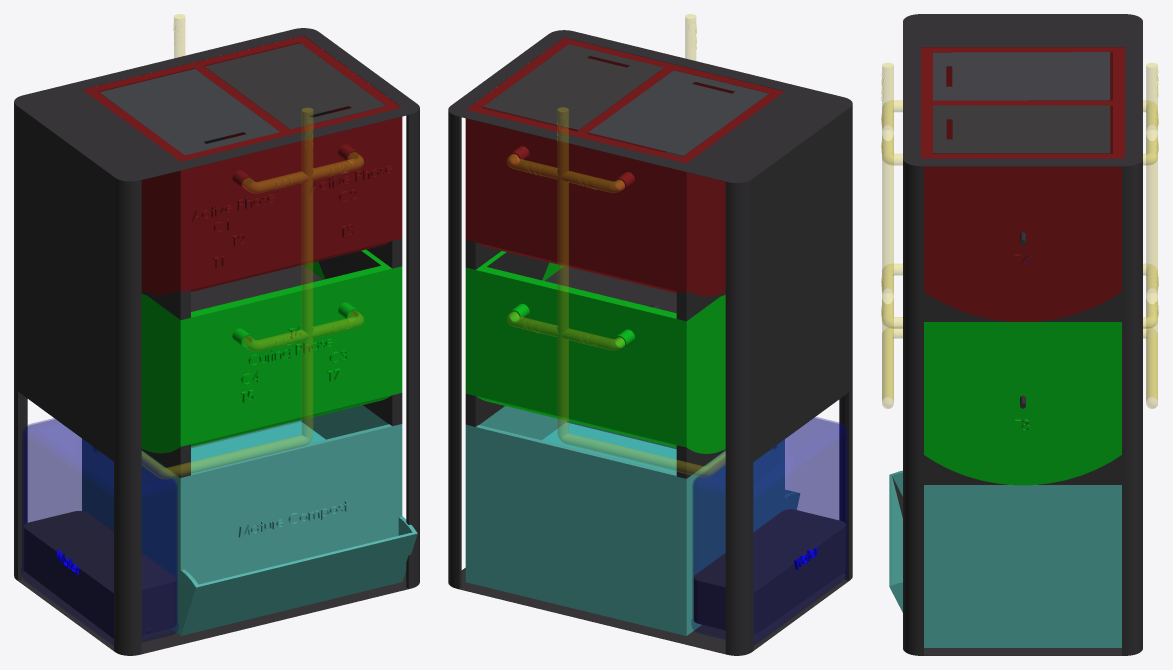
Rendered from anime_baked.glb.
3 renders of one model, left to right at view 1: azimuth 30°, elevation 25°; view 2: azimuth 150°, elevation 25°; view 3: azimuth 270°, elevation 25°, orthographic. The views are drawn at different scales.
Visible parts, largest first — view 1: Part3-1, Part5-1, Part1-1, Part2-1, bottle-1, wasteeee-1, pipe line-1, lid-1, lid-2, waste 3-1, waste 2-1, connector-1 (+3 smaller); view 2: Part3-1, Part5-1, Part1-1, Part2-1, bottle-1, wasteeee-1, pipe line-1, lid-1, lid-2, waste 3-1, waste 2-1, connector-1 (+3 smaller); view 3: Part3-1, Part1-1, Part5-1, Part2-1, pipe line-1, lid-1, lid-2, connector-3, connector-2.
Boxes of the visible parts, box(x1,y1,x2,y2) form: Part3-1: box(14, 28, 419, 655); Part5-1: box(82, 405, 417, 635); Part1-1: box(82, 35, 402, 295); Part2-1: box(141, 249, 402, 453); bottle-1: box(21, 418, 178, 645); wasteeee-1: box(23, 511, 176, 638); pipe line-1: box(142, 14, 363, 478); lid-1: box(205, 43, 385, 129); lid-2: box(99, 69, 279, 155); waste 3-1: box(191, 421, 325, 472); waste 2-1: box(191, 265, 322, 311); connector-1: box(141, 444, 190, 477); Part3-1: box(448, 30, 852, 655); Part5-1: box(465, 406, 799, 635); Part1-1: box(465, 37, 784, 296); Part2-1: box(465, 251, 725, 453); bottle-1: box(691, 417, 847, 644); wasteeee-1: box(693, 509, 845, 634); pipe line-1: box(507, 14, 725, 477); lid-1: box(483, 44, 663, 130); lid-2: box(588, 70, 768, 155); waste 3-1: box(542, 422, 676, 472); waste 2-1: box(545, 266, 676, 313); connector-1: box(676, 445, 725, 478); Part3-1: box(903, 14, 1142, 655); Part1-1: box(921, 47, 1124, 321); Part5-1: box(889, 470, 1121, 647); Part2-1: box(924, 322, 1121, 485); pipe line-1: box(881, 63, 1158, 408); lid-1: box(933, 105, 1110, 153); lid-2: box(933, 52, 1110, 100); connector-3: box(924, 292, 1121, 321); connector-2: box(924, 455, 1121, 484).
Bounding box in the file's own units: 0.605 × 0.969 × 0.462.
